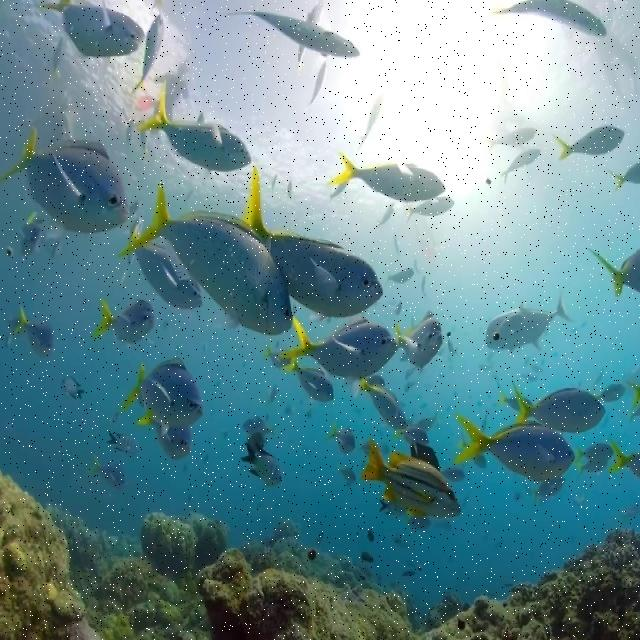fish: (118, 179, 294, 336), (244, 165, 384, 319), (0, 128, 129, 236), (136, 85, 253, 171), (224, 2, 361, 64), (453, 413, 576, 480), (360, 440, 461, 519), (280, 317, 398, 380), (122, 358, 204, 429), (39, 1, 144, 56), (327, 153, 445, 201), (511, 379, 606, 432), (486, 292, 571, 349), (136, 242, 202, 310), (94, 297, 154, 344), (395, 312, 443, 368), (554, 126, 625, 160), (589, 247, 639, 295), (136, 13, 164, 93), (608, 441, 639, 477)
